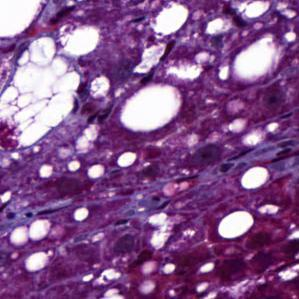ballooning: (4, 33, 85, 153), (116, 80, 183, 137)
